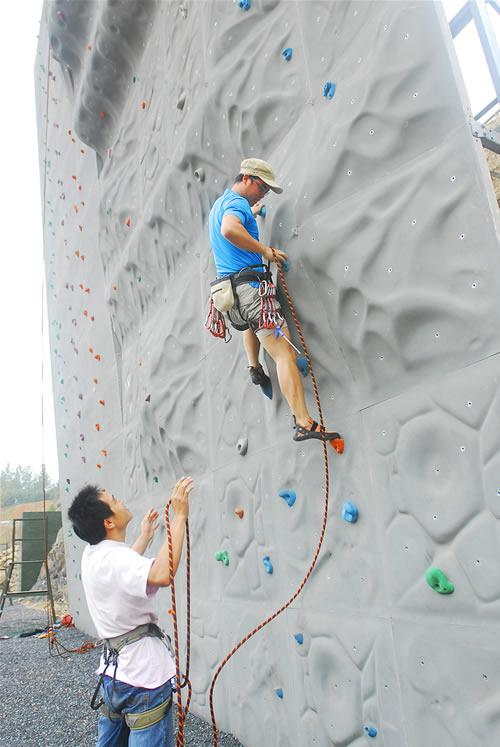person: (208, 154, 331, 441)
